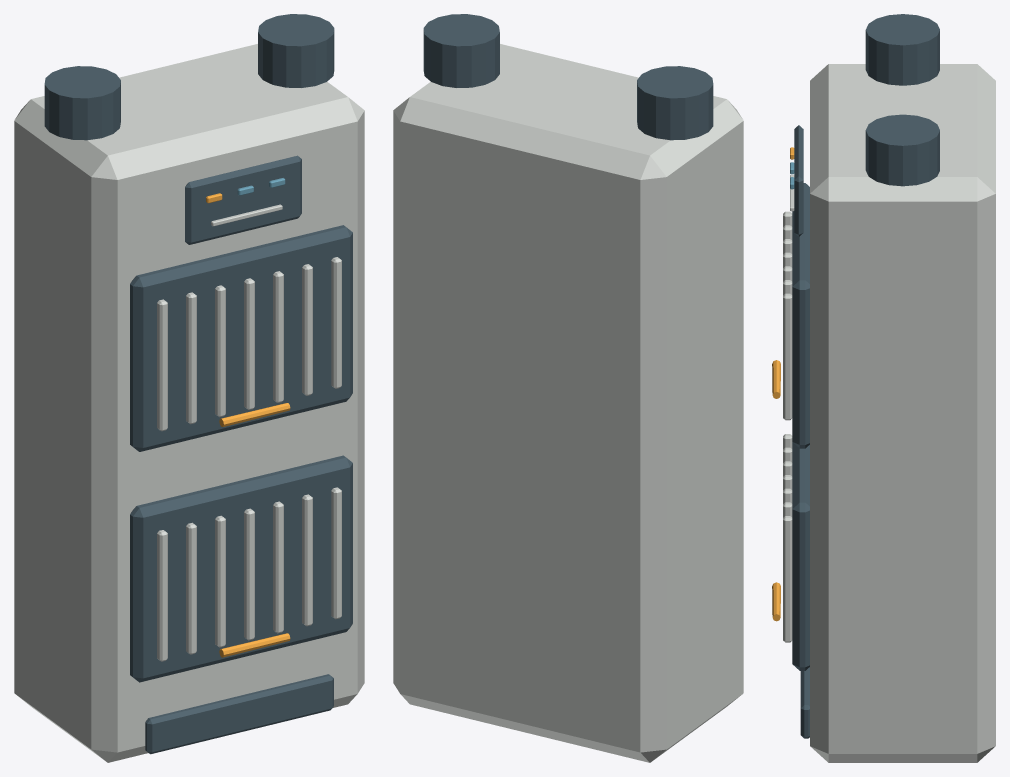
3 renders of one model, left to right at view 1: azimuth 30°, elevation 25°; view 2: azimuth 150°, elevation 25°; view 3: azimuth 270°, elevation 25°, orthographic. The views are drawn at different scales.
Visible parts, largest first — view 1: MI-003 Twin-filter air scrubber cabinet batched; view 2: MI-003 Twin-filter air scrubber cabinet batched; view 3: MI-003 Twin-filter air scrubber cabinet batched.
Boxes of the visible parts, x1=… form: MI-003 Twin-filter air scrubber cabinet batched: x1=14, y1=14, x2=364, y2=762; MI-003 Twin-filter air scrubber cabinet batched: x1=393, y1=14, x2=743, y2=762; MI-003 Twin-filter air scrubber cabinet batched: x1=772, y1=14, x2=995, y2=762.
Size of the model in its own units: 0.84 by 1.86 by 0.602.
